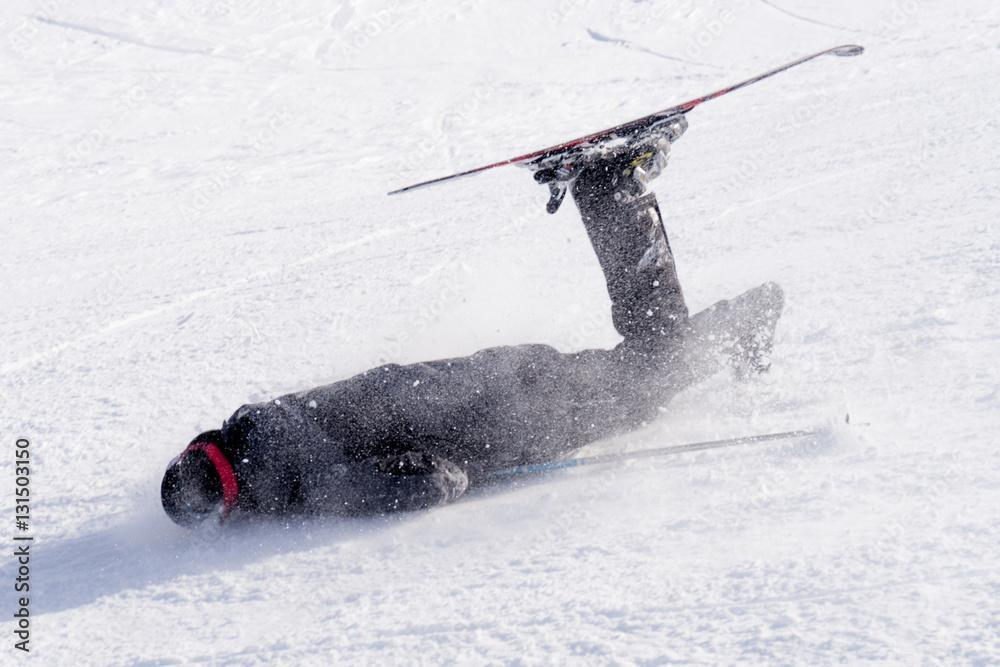Skis: (361, 31, 871, 204)
